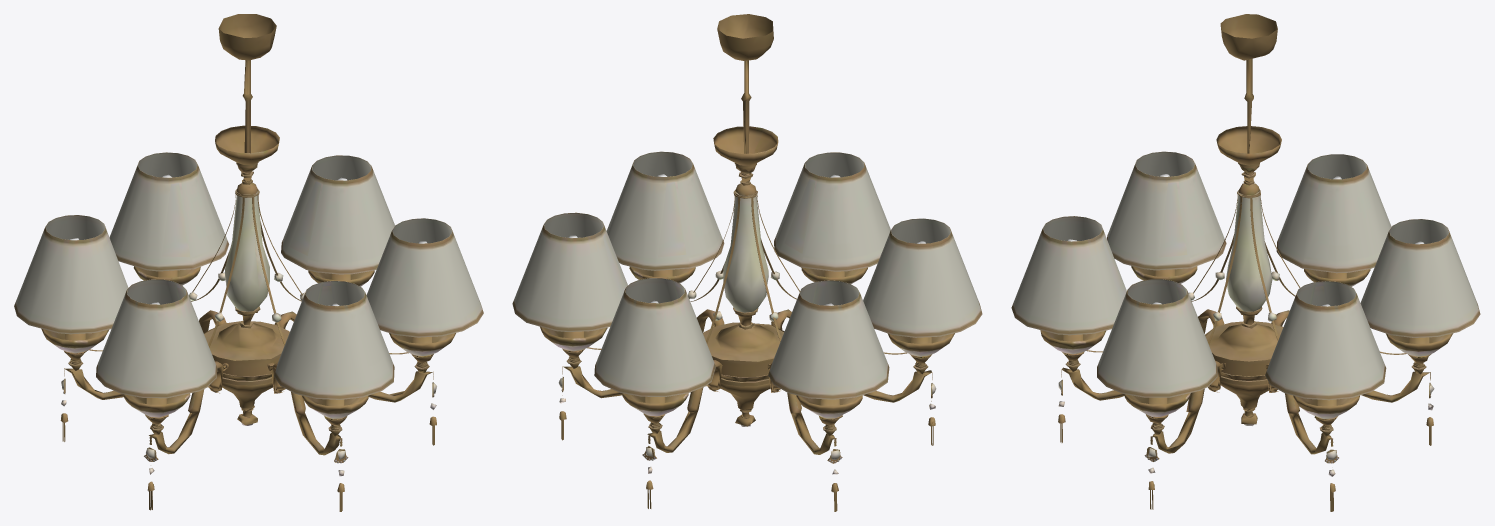
File: Chandelier_01.glb
The picture shows the model from 3 angles, left to right: view 1: azimuth 30°, elevation 25°; view 2: azimuth 150°, elevation 25°; view 3: azimuth 270°, elevation 25°; orthographic projection.
Parts seen in each view (by area): view 1: Chandelier_01; view 2: Chandelier_01; view 3: Chandelier_01.
Part boxes in pixels (bbox=[...]): Chandelier_01: bbox=[14, 14, 483, 511]; Chandelier_01: bbox=[512, 14, 982, 511]; Chandelier_01: bbox=[1011, 14, 1480, 511].
Size of the model in its own units: 0.7465 by 0.7982 by 0.8155.
Materials: 2 (1 with a texture image).
